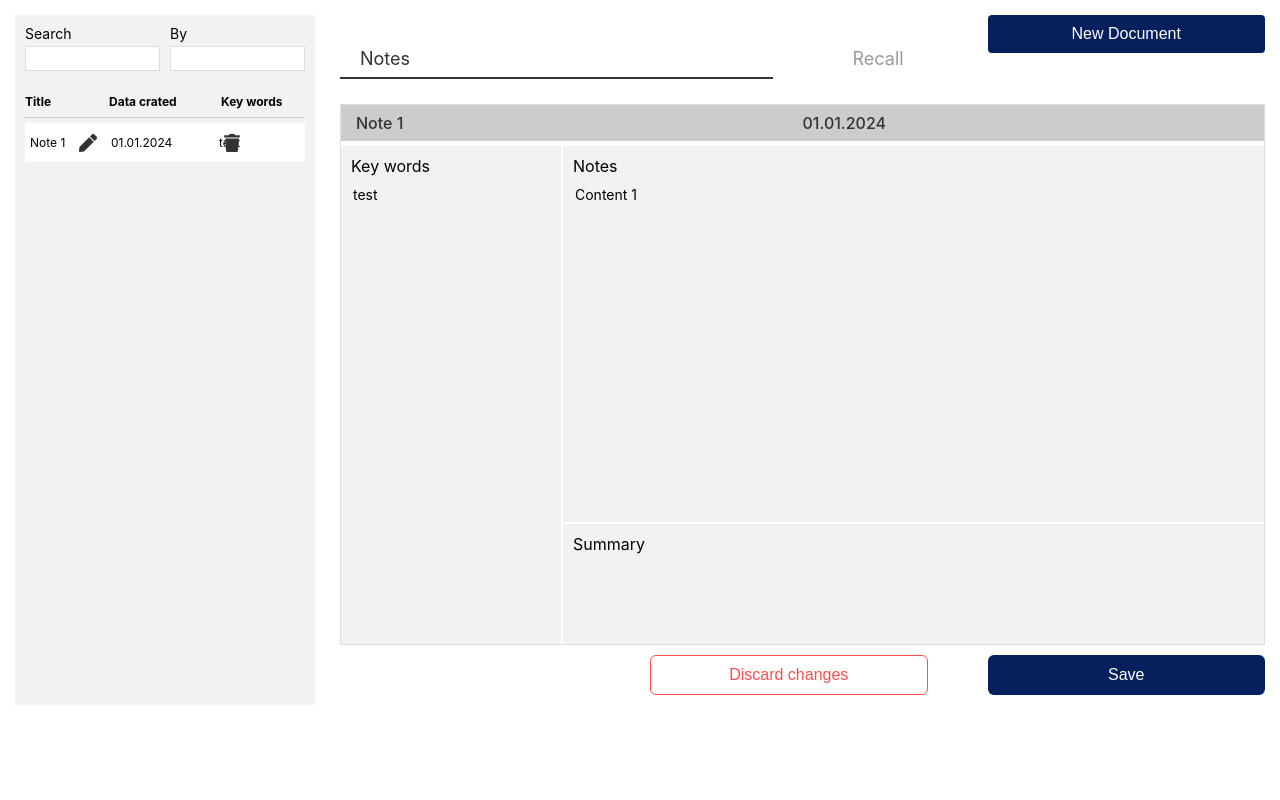
it: NotesView Component › opens new document when button clicked
This screenshot has width=1280, height=800.
Expected: the text "Note 1" in the row of "test" is shown, [30,135,65,150]
What coordinates should you click on to do the following:
click the button "New Document"
I would click on:
 (1126, 34)
Its box is [988,15,1265,53].
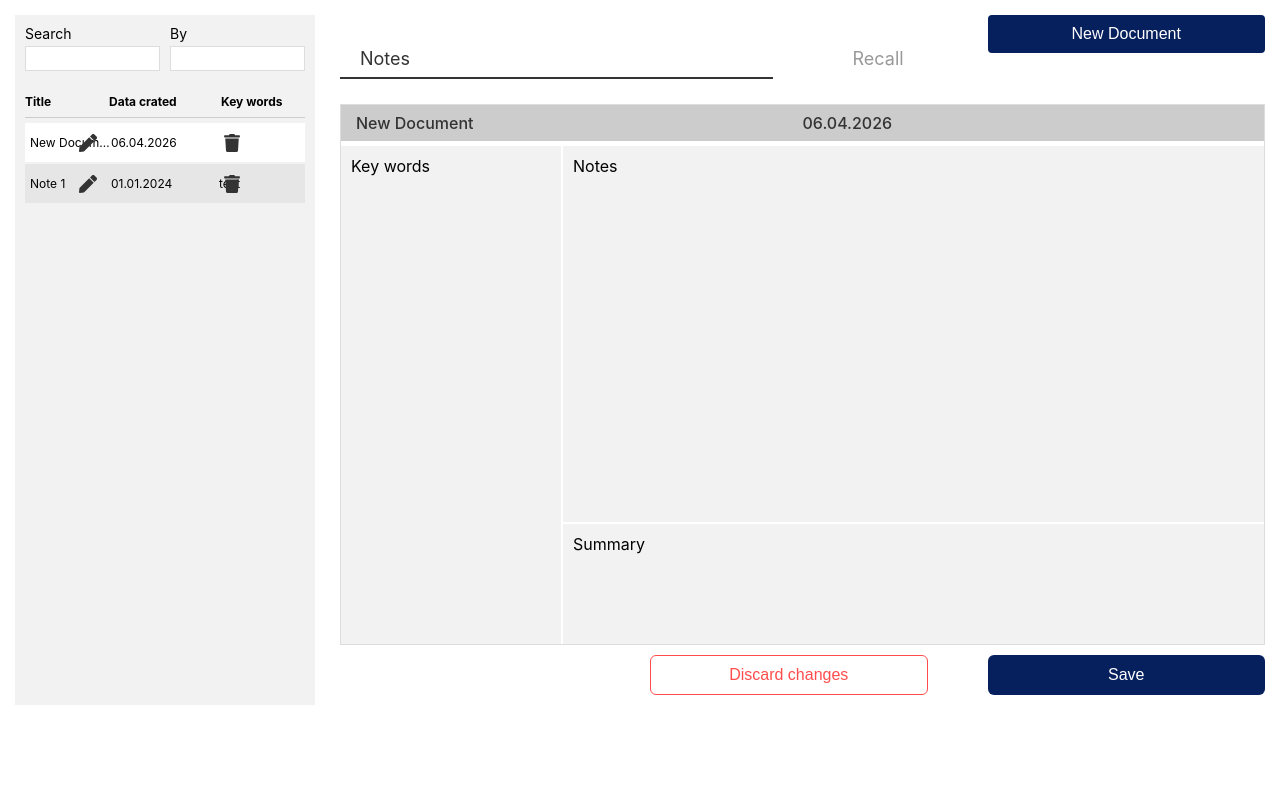
Result: the text "New Document" below "Title" is shown at [30,135,117,150]
